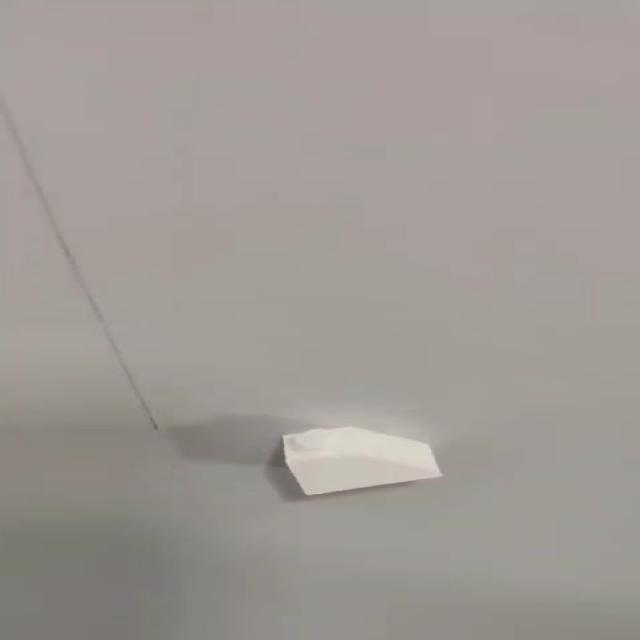P1x2x1: (279, 426, 447, 498)
